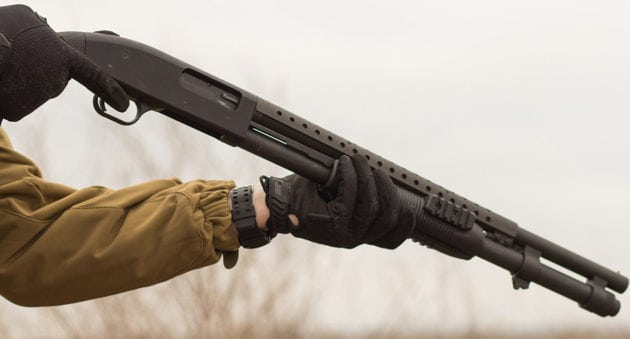Gun: (136, 57, 504, 258)
